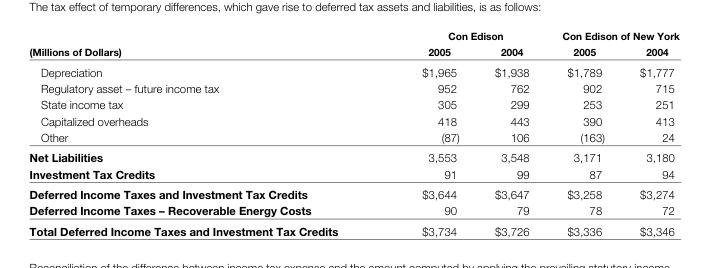table: (28, 29, 678, 237)
table column: (28, 29, 379, 237), (379, 29, 476, 237), (545, 29, 621, 237), (476, 29, 545, 237), (621, 29, 678, 237)
table column header: (28, 29, 678, 61)
table row: (28, 146, 678, 165), (28, 201, 678, 220), (28, 43, 678, 61), (28, 61, 678, 79), (28, 128, 678, 146), (28, 165, 678, 183), (28, 183, 678, 201), (28, 95, 678, 112), (28, 220, 678, 237), (28, 79, 678, 95), (28, 112, 678, 128), (28, 29, 678, 43)
table spanning cell: (28, 29, 379, 61), (379, 29, 545, 43), (545, 29, 678, 43)
